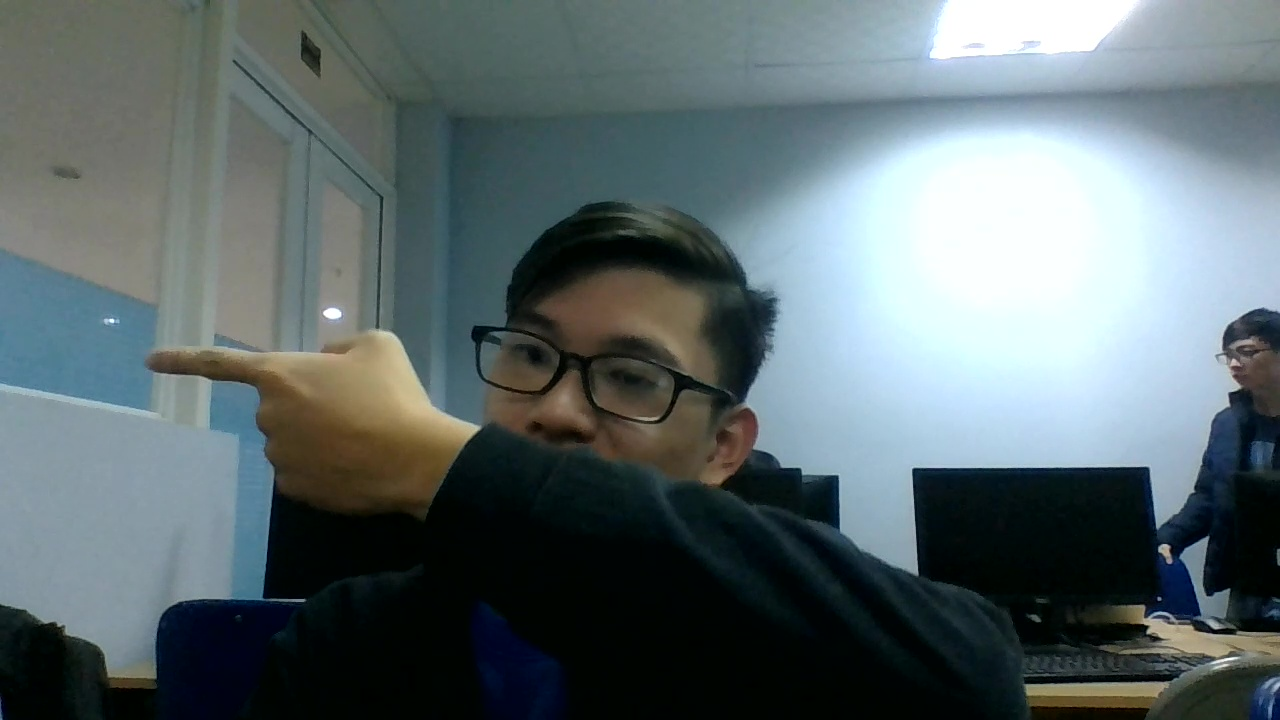right: (141, 329, 419, 524)
